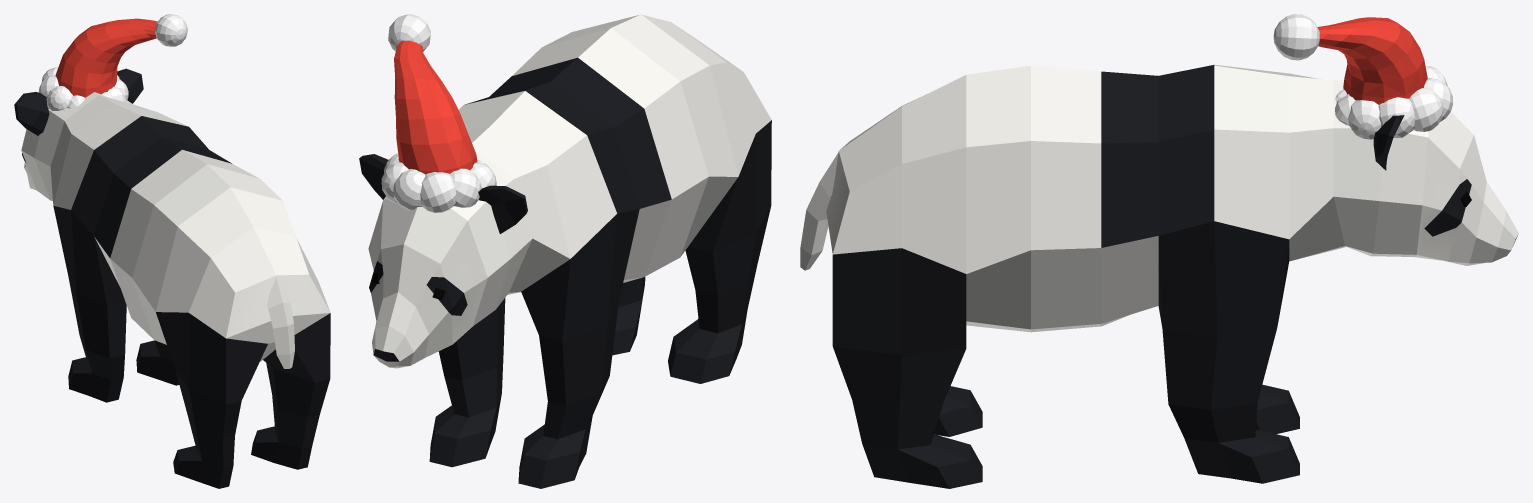
File: santa-panda.glb
3 renders of one model, left to right at view 1: azimuth 30°, elevation 25°; view 2: azimuth 150°, elevation 25°; view 3: azimuth 270°, elevation 25°, orthographic. The views are drawn at different scales.
Visible parts, largest first — view 1: node-0, node_MeshObject2049711104-PolyPaper21; view 2: node-0, node_MeshObject2049711104-PolyPaper21; view 3: node-0, node_MeshObject2049711104-PolyPaper21.
Part boxes in pixels (x1,y1,x2,y2): node-0: [14, 68, 330, 488]; node_MeshObject2049711104-PolyPaper21: [38, 14, 187, 110]; node-0: [359, 14, 771, 488]; node_MeshObject2049711104-PolyPaper21: [381, 14, 496, 212]; node-0: [800, 64, 1518, 488]; node_MeshObject2049711104-PolyPaper21: [1273, 14, 1453, 139].
Bounding box in the file's own units: 0.8728 × 1.87 × 2.59.
2 materials, 1 textured.
